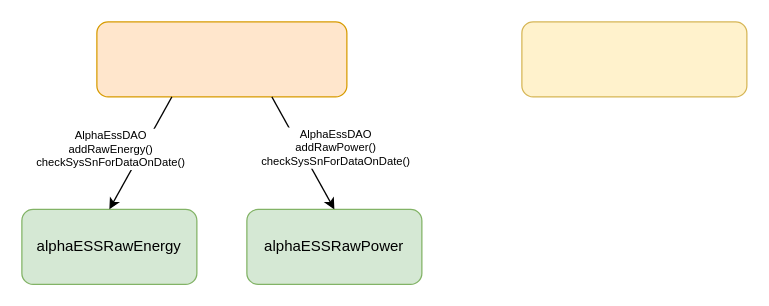
Some shapes in this 769 by 306 pixel diagram are drawn without their labels. Each missing label, with the centre of its shape:
"AlphaESS ImportWorker" belongs at (221,59).
"Note: Direct ToutcRepository access for background data import" belongs at (634,59).
